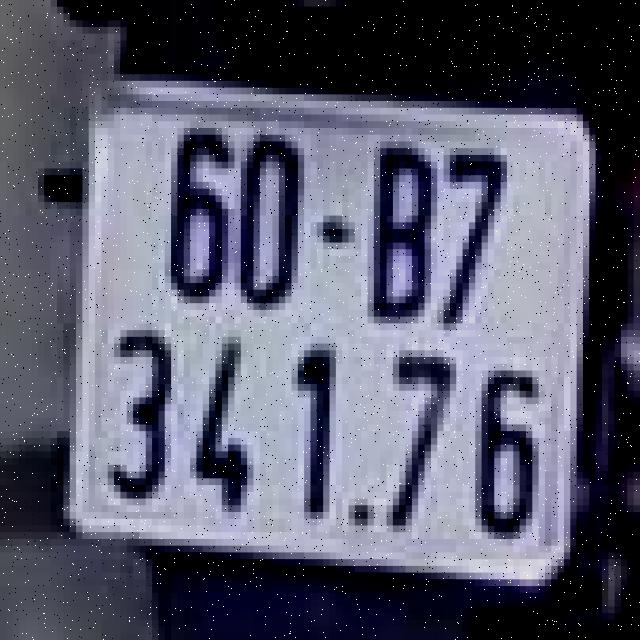0: (241, 125, 304, 320)
1: (282, 330, 345, 526)
3: (108, 313, 184, 509)
4: (187, 316, 257, 526)
6: (456, 357, 558, 546), (158, 121, 234, 310)
7: (371, 334, 453, 536), (437, 134, 513, 343)
B: (361, 128, 431, 330)
